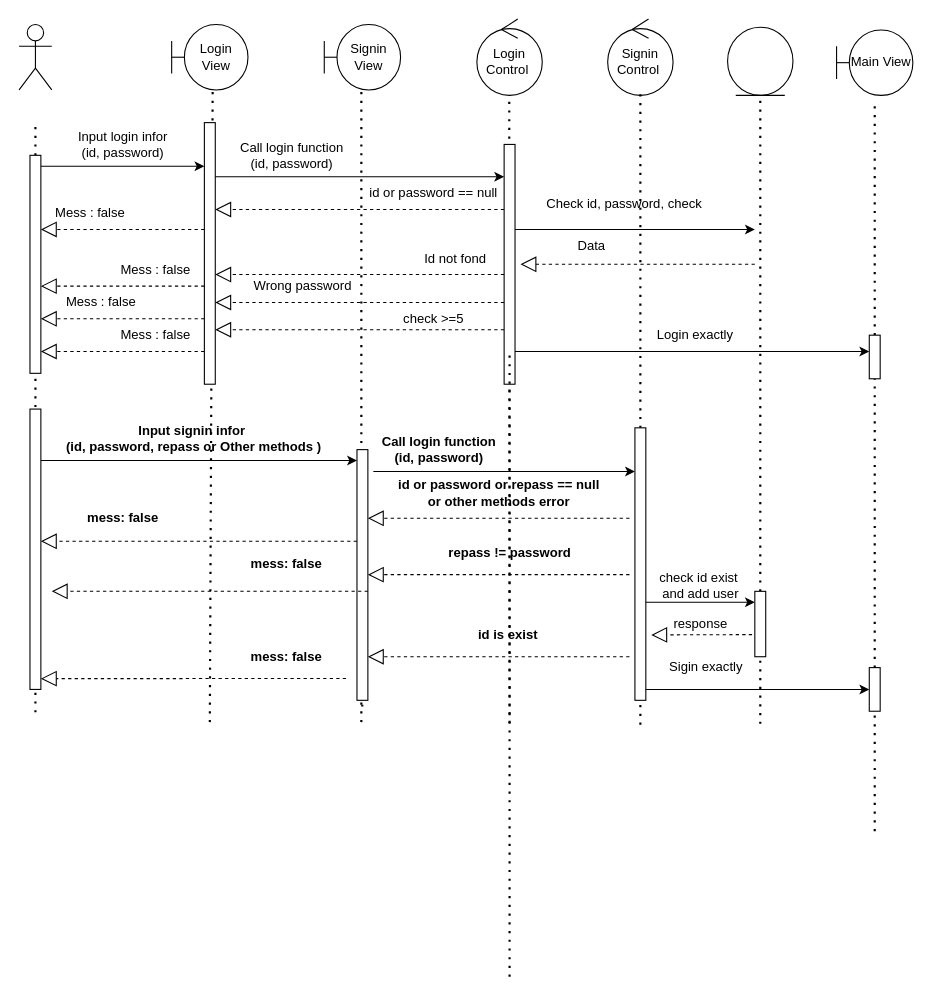
This 932x998 diagram has some shape labels left out. Each missing label, with the centre of its shape:
"Model" belongs at (x=759, y=60).
"User" belongs at (x=35, y=56).
